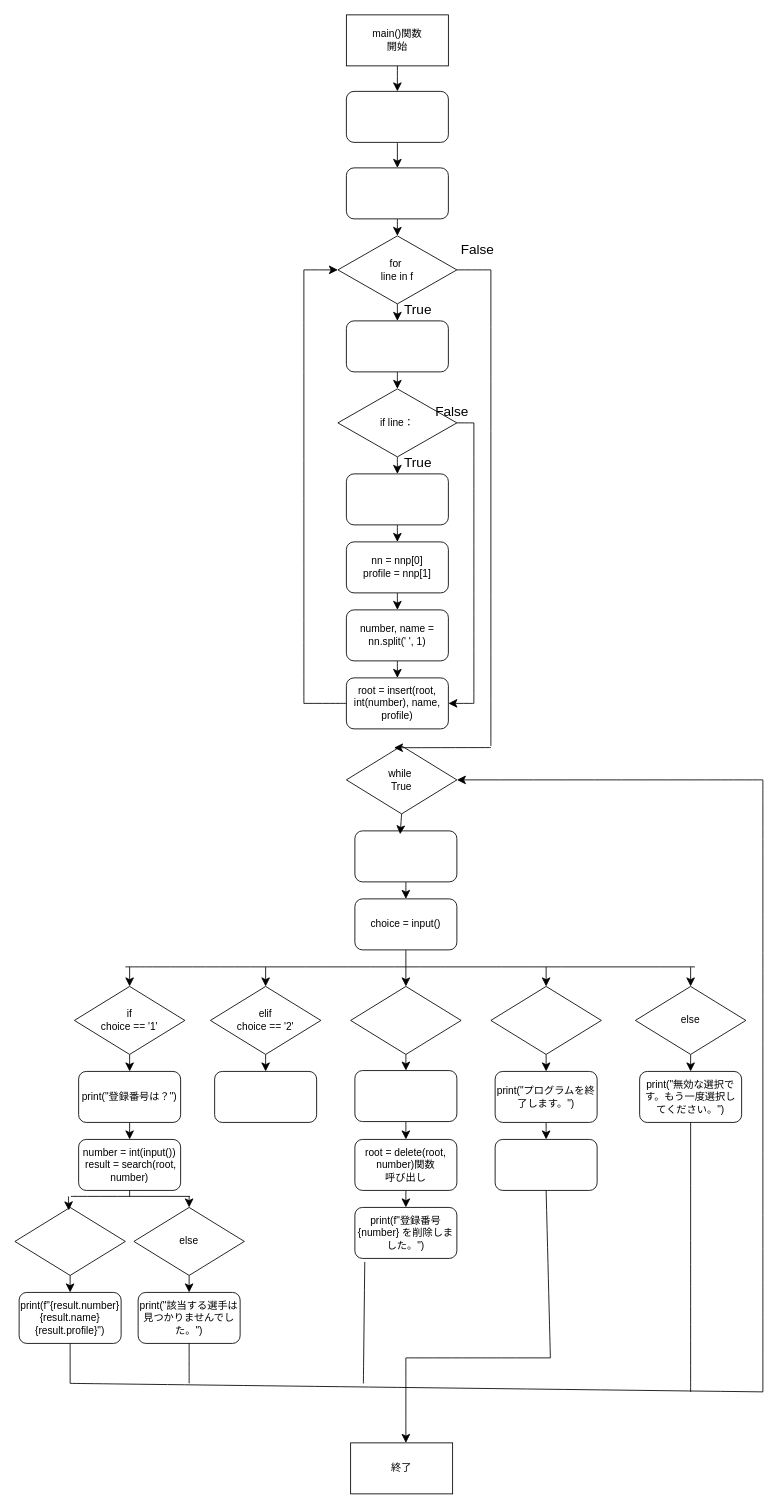
The diagram is 779 pixels wide and 1509 high, and some of its shapes have lost their labels. Here are the shapes that lost their labels. From the top down, the box of each, then its label:
(346, 91, 448, 142): root = None
(346, 167, 448, 219): fとしてZac_Japan.txtファイルを開く
(346, 320, 448, 372): line = line.strip()
(346, 473, 448, 525): nnp = line.rsplit(' ', 1)
(354, 830, 457, 882): print("\n1:探索 2:表示 3:削除 9:終了")
(350, 986, 461, 1054): elif choice == '3'
(490, 986, 601, 1054): elif choice == '9'
(214, 1071, 317, 1122): tree(root)関数 呼び出し
(354, 1070, 457, 1122): print("登録番号は？") number = int(input())
(494, 1139, 597, 1190): break
(14, 1207, 125, 1275): if result
